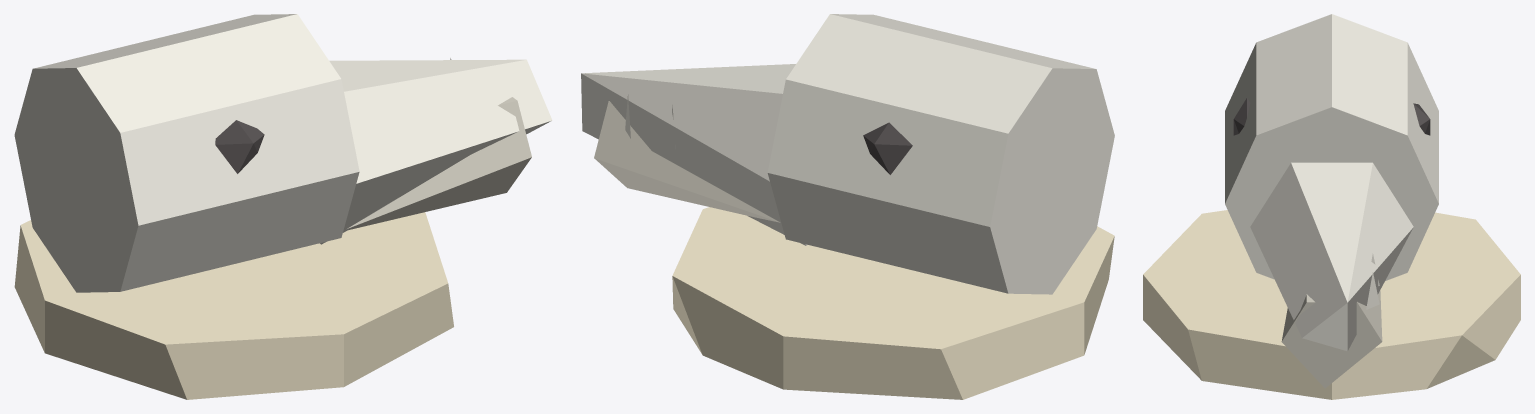
File: 45-Arte3D_caveira_criatura.glb
3 views of the same model, side by side, from view 1: azimuth 30°, elevation 25°; view 2: azimuth 150°, elevation 25°; view 3: azimuth 270°, elevation 25° (orthographic). The views are drawn at different scales.
Parts seen in each view (by area): view 1: SM_Caveira_M_Caveira_Hueso, SM_Caveira_M_Arena_Isla, SM_Caveira_M_Caveira_Hueso_Osc, SM_Caveira_M_Caveira_Cuenca; view 2: SM_Caveira_M_Caveira_Hueso, SM_Caveira_M_Arena_Isla, SM_Caveira_M_Caveira_Hueso_Osc, SM_Caveira_M_Caveira_Cuenca; view 3: SM_Caveira_M_Caveira_Hueso, SM_Caveira_M_Arena_Isla, SM_Caveira_M_Caveira_Hueso_Osc, SM_Caveira_M_Caveira_Cuenca.
Part boxes in pixels (<box>): SM_Caveira_M_Caveira_Hueso: <box>14,14,552,292</box>; SM_Caveira_M_Arena_Isla: <box>14,212,453,399</box>; SM_Caveira_M_Caveira_Hueso_Osc: <box>346,97,531,229</box>; SM_Caveira_M_Caveira_Cuenca: <box>215,120,264,173</box>; SM_Caveira_M_Caveira_Hueso: <box>581,14,1114,294</box>; SM_Caveira_M_Arena_Isla: <box>672,207,1114,399</box>; SM_Caveira_M_Caveira_Hueso_Osc: <box>594,101,780,222</box>; SM_Caveira_M_Caveira_Cuenca: <box>863,122,912,174</box>; SM_Caveira_M_Caveira_Hueso: <box>1225,14,1438,351</box>; SM_Caveira_M_Arena_Isla: <box>1143,210,1520,399</box>; SM_Caveira_M_Caveira_Hueso_Osc: <box>1281,290,1382,388</box>; SM_Caveira_M_Caveira_Cuenca: <box>1233,98,1430,135</box>.
Size of the model in its own units: 1.55 by 0.84 by 1.2.
